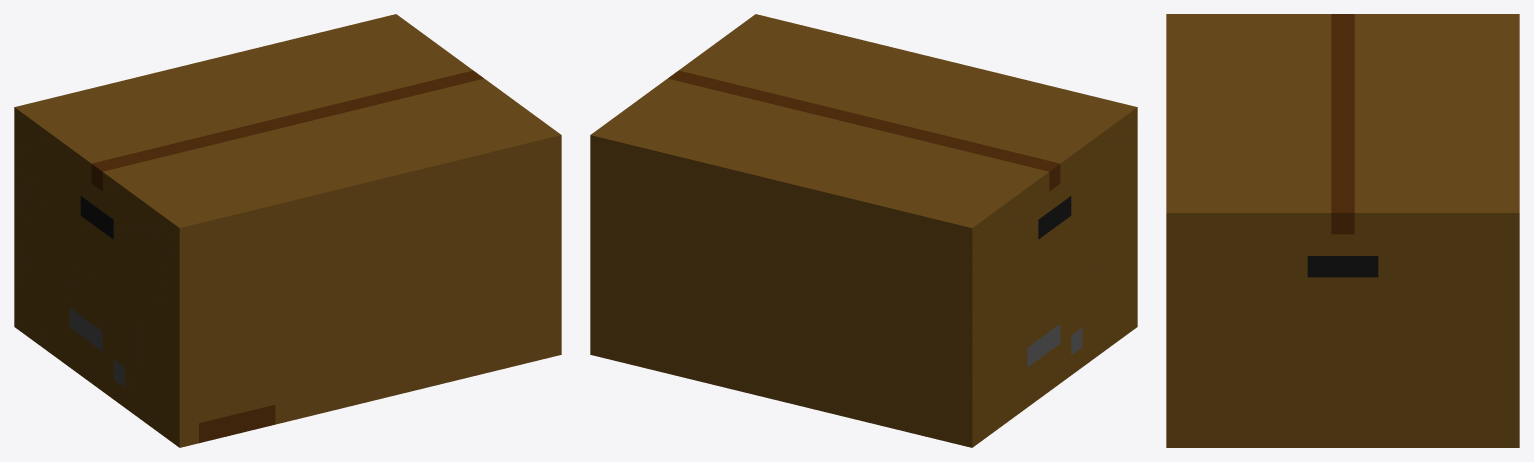
The model's file is Karton 1.obj.
3 views of the same model, side by side, from view 1: azimuth 30°, elevation 25°; view 2: azimuth 150°, elevation 25°; view 3: azimuth 270°, elevation 25° (orthographic). The views are drawn at different scales.
Size of the model in its own units: 2 by 1.1 by 1.5.
1 material, 1 textured.
